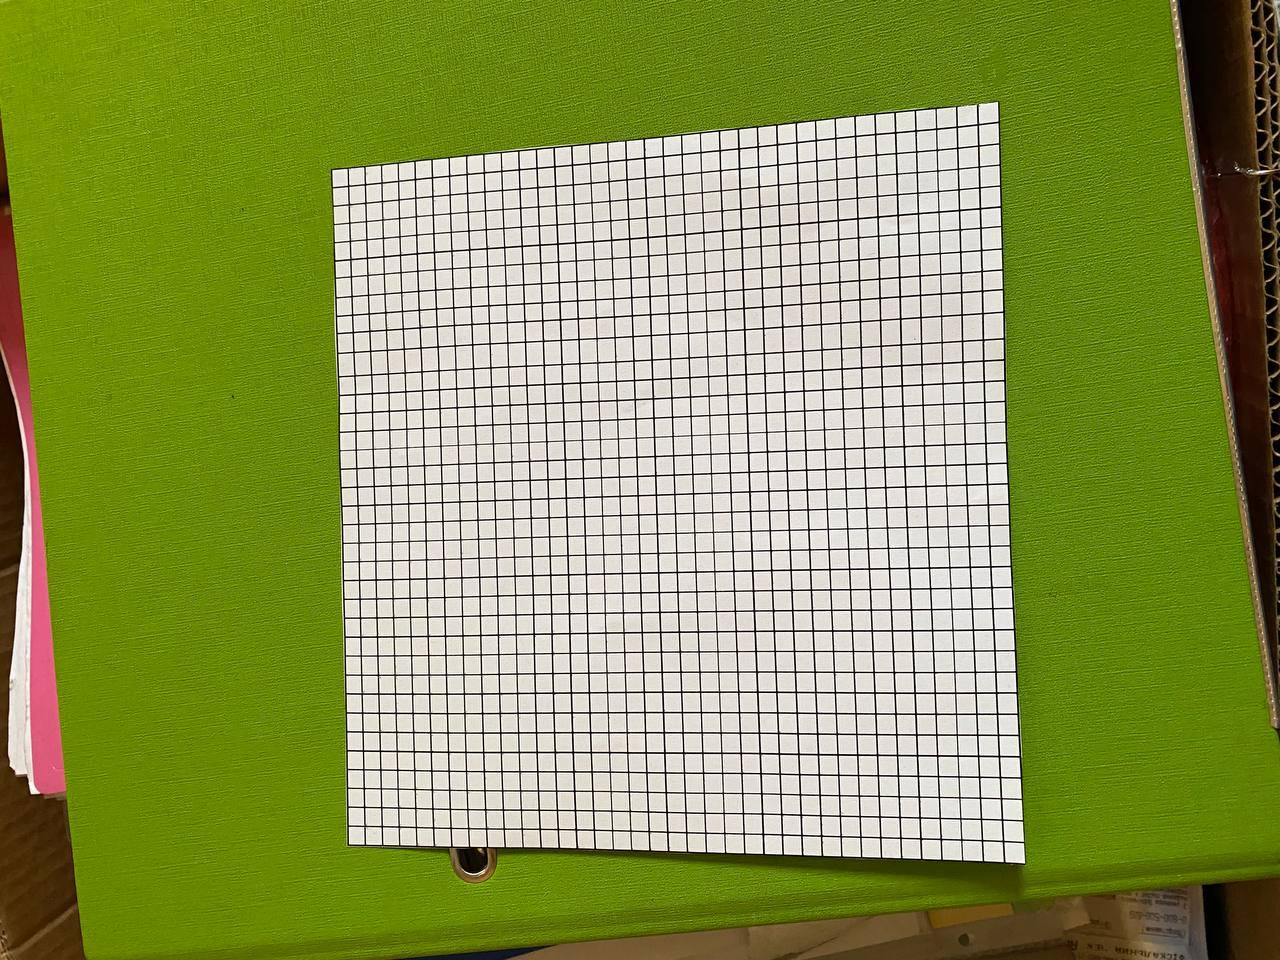grid: (305, 91, 1035, 883)
